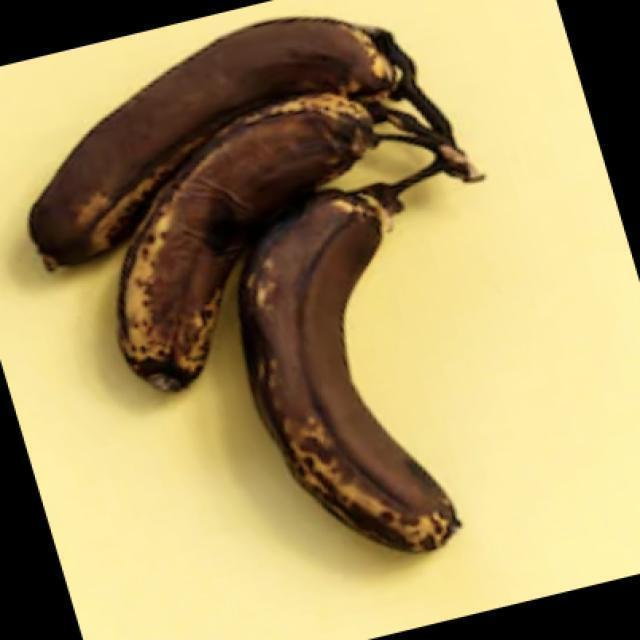Banana: (27, 14, 484, 554)
